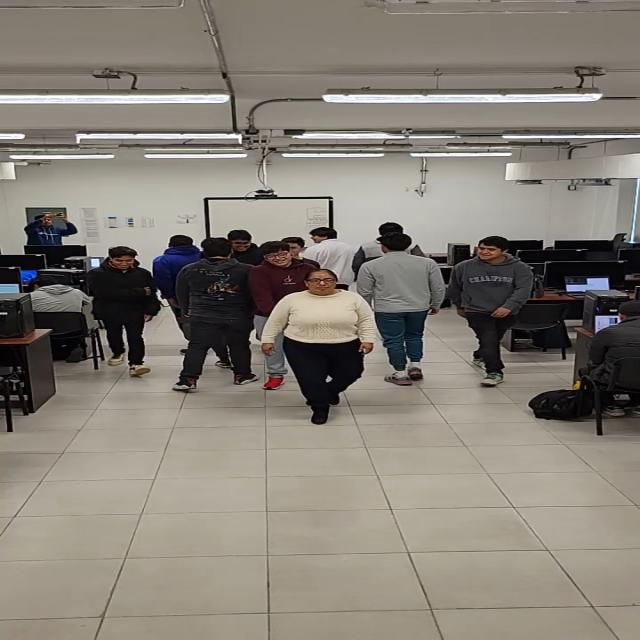Persona: (280, 268, 370, 430), (458, 234, 521, 386), (372, 235, 435, 381), (193, 238, 254, 381), (92, 245, 158, 372), (19, 206, 94, 257), (252, 242, 305, 295), (309, 228, 362, 270), (230, 232, 258, 258)
